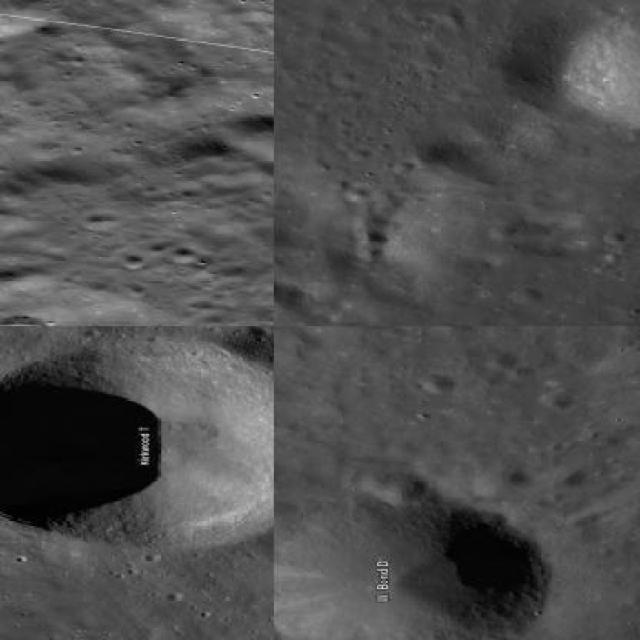crater: (0, 334, 272, 548), (274, 488, 552, 638), (564, 0, 638, 134)
